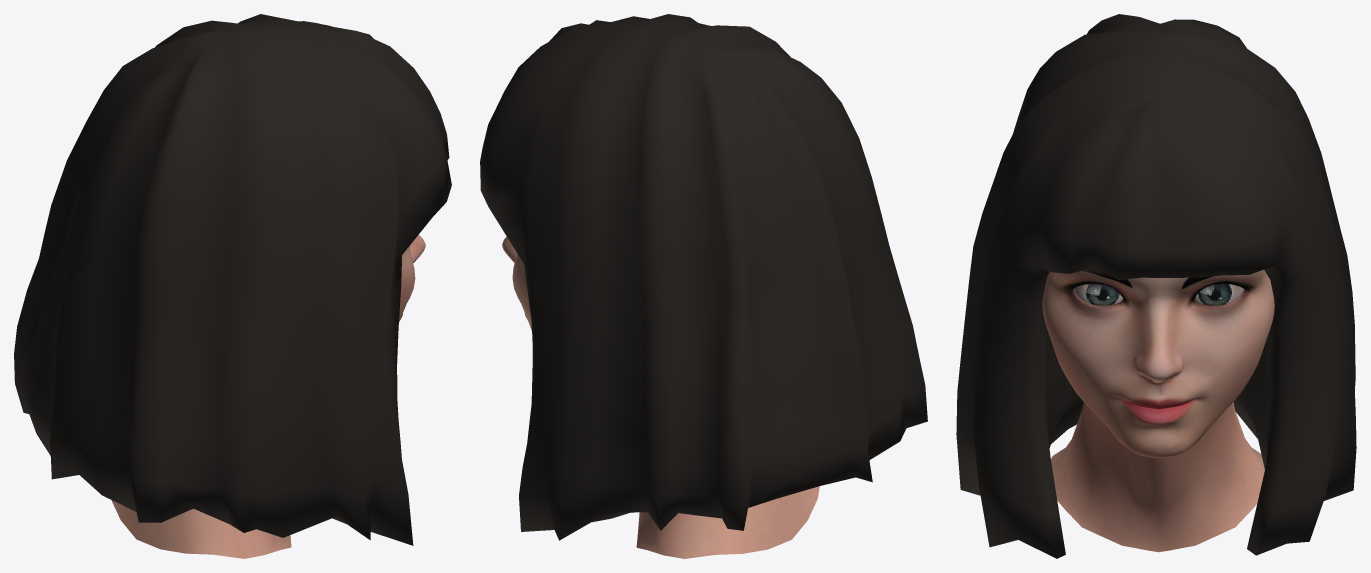
File: avatar_se.glb
The picture shows the model from 3 angles, left to right: view 1: azimuth 30°, elevation 25°; view 2: azimuth 150°, elevation 25°; view 3: azimuth 270°, elevation 25°; orthographic projection.
Parts seen in each view (by area): view 1: Wolf3D_Hair, Wolf3D_Head; view 2: Wolf3D_Hair, Wolf3D_Head; view 3: Wolf3D_Hair, Wolf3D_Head, EyeRight, EyeLeft.
Part boxes in pixels (left/top/right/bottom): Wolf3D_Hair: left=14, top=14, right=451, bottom=545; Wolf3D_Head: left=111, top=234, right=425, bottom=558; Wolf3D_Hair: left=480, top=14, right=927, bottom=540; Wolf3D_Head: left=502, top=236, right=819, bottom=558; Wolf3D_Hair: left=956, top=14, right=1356, bottom=558; Wolf3D_Head: left=1042, top=267, right=1274, bottom=552; EyeRight: left=1073, top=283, right=1122, bottom=305; EyeLeft: left=1194, top=283, right=1244, bottom=305.
Size of the model in its own units: 0.2539 by 0.3285 by 0.2341.
Materials: 3 (3 with a texture image).
